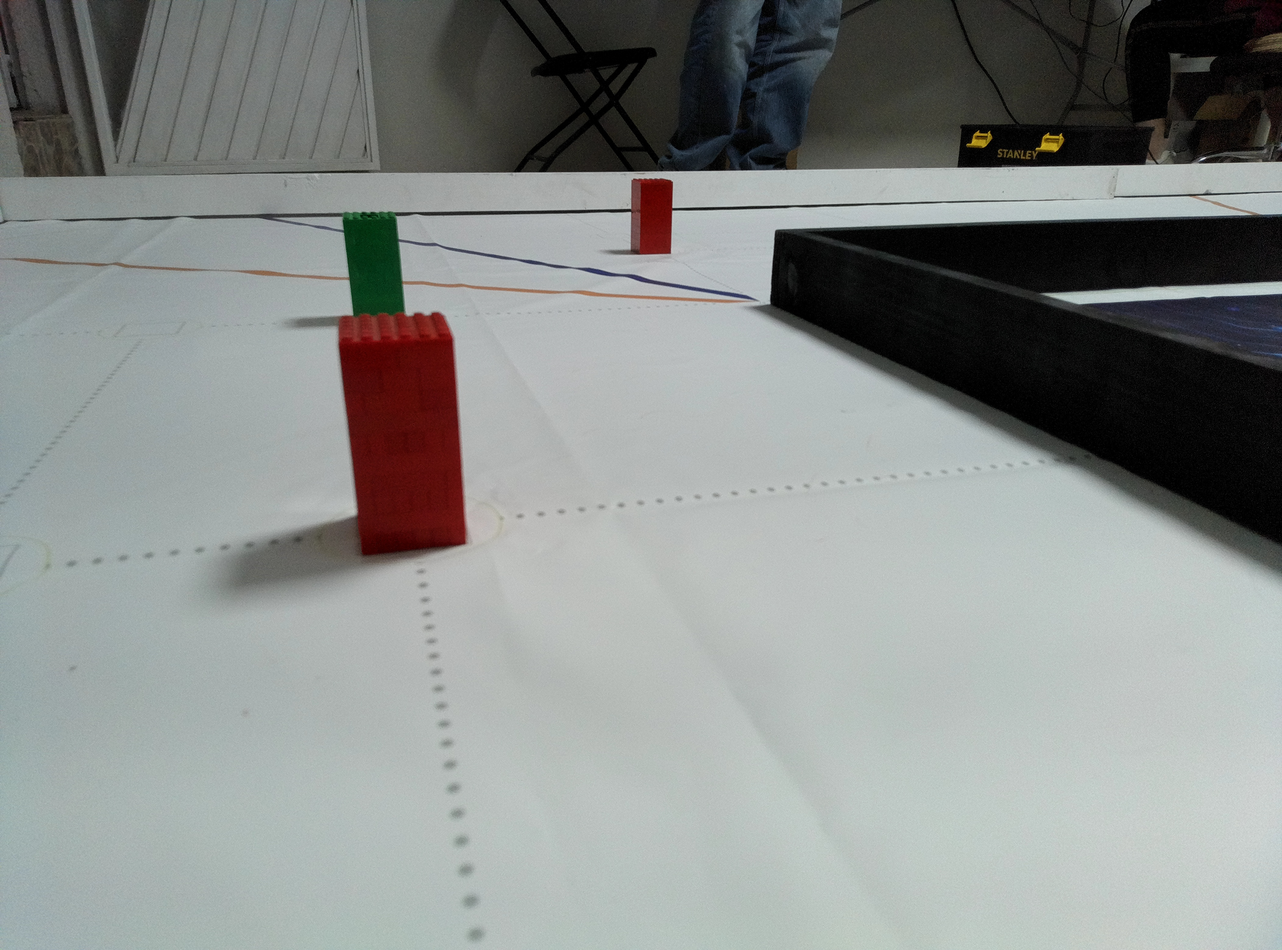greenbox: (339, 208, 407, 315)
redbox: (336, 311, 470, 558), (630, 177, 674, 256)
